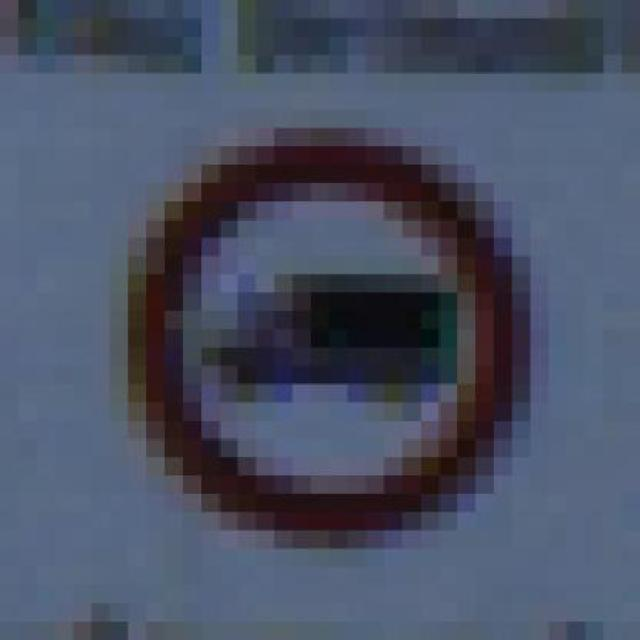Truck traffic is prohibited: (76, 104, 552, 561)
